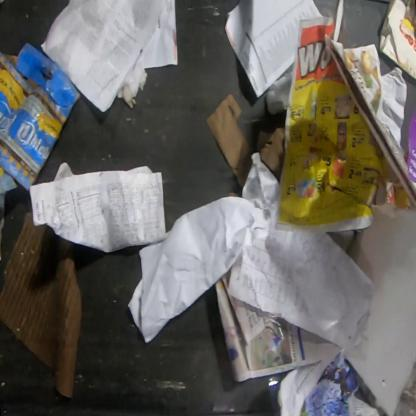cardboard: (0, 212, 84, 398), (0, 43, 81, 193), (206, 91, 286, 193), (378, 10, 416, 80)
